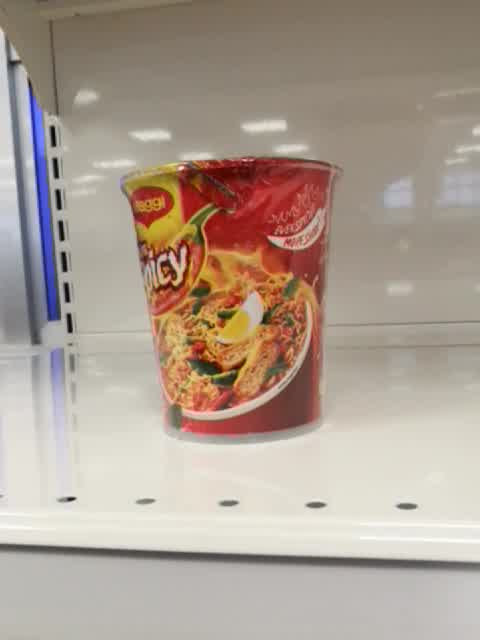maggi: (120, 155, 344, 444)
